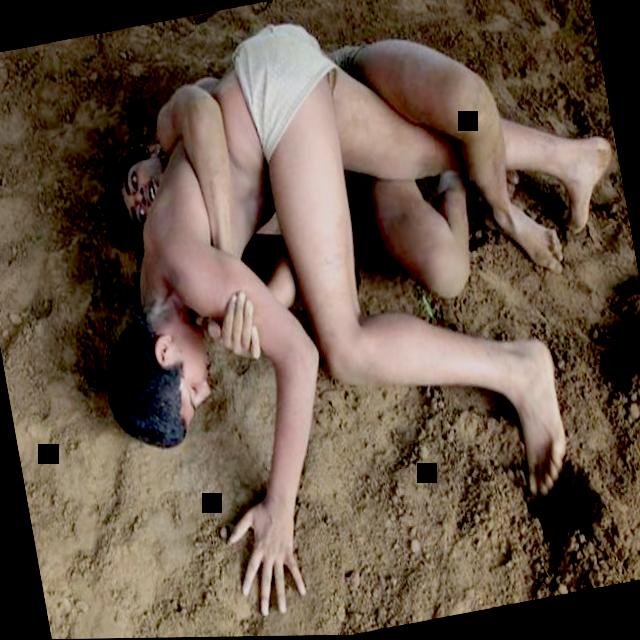Fall-Detected: (36, 0, 615, 640)
